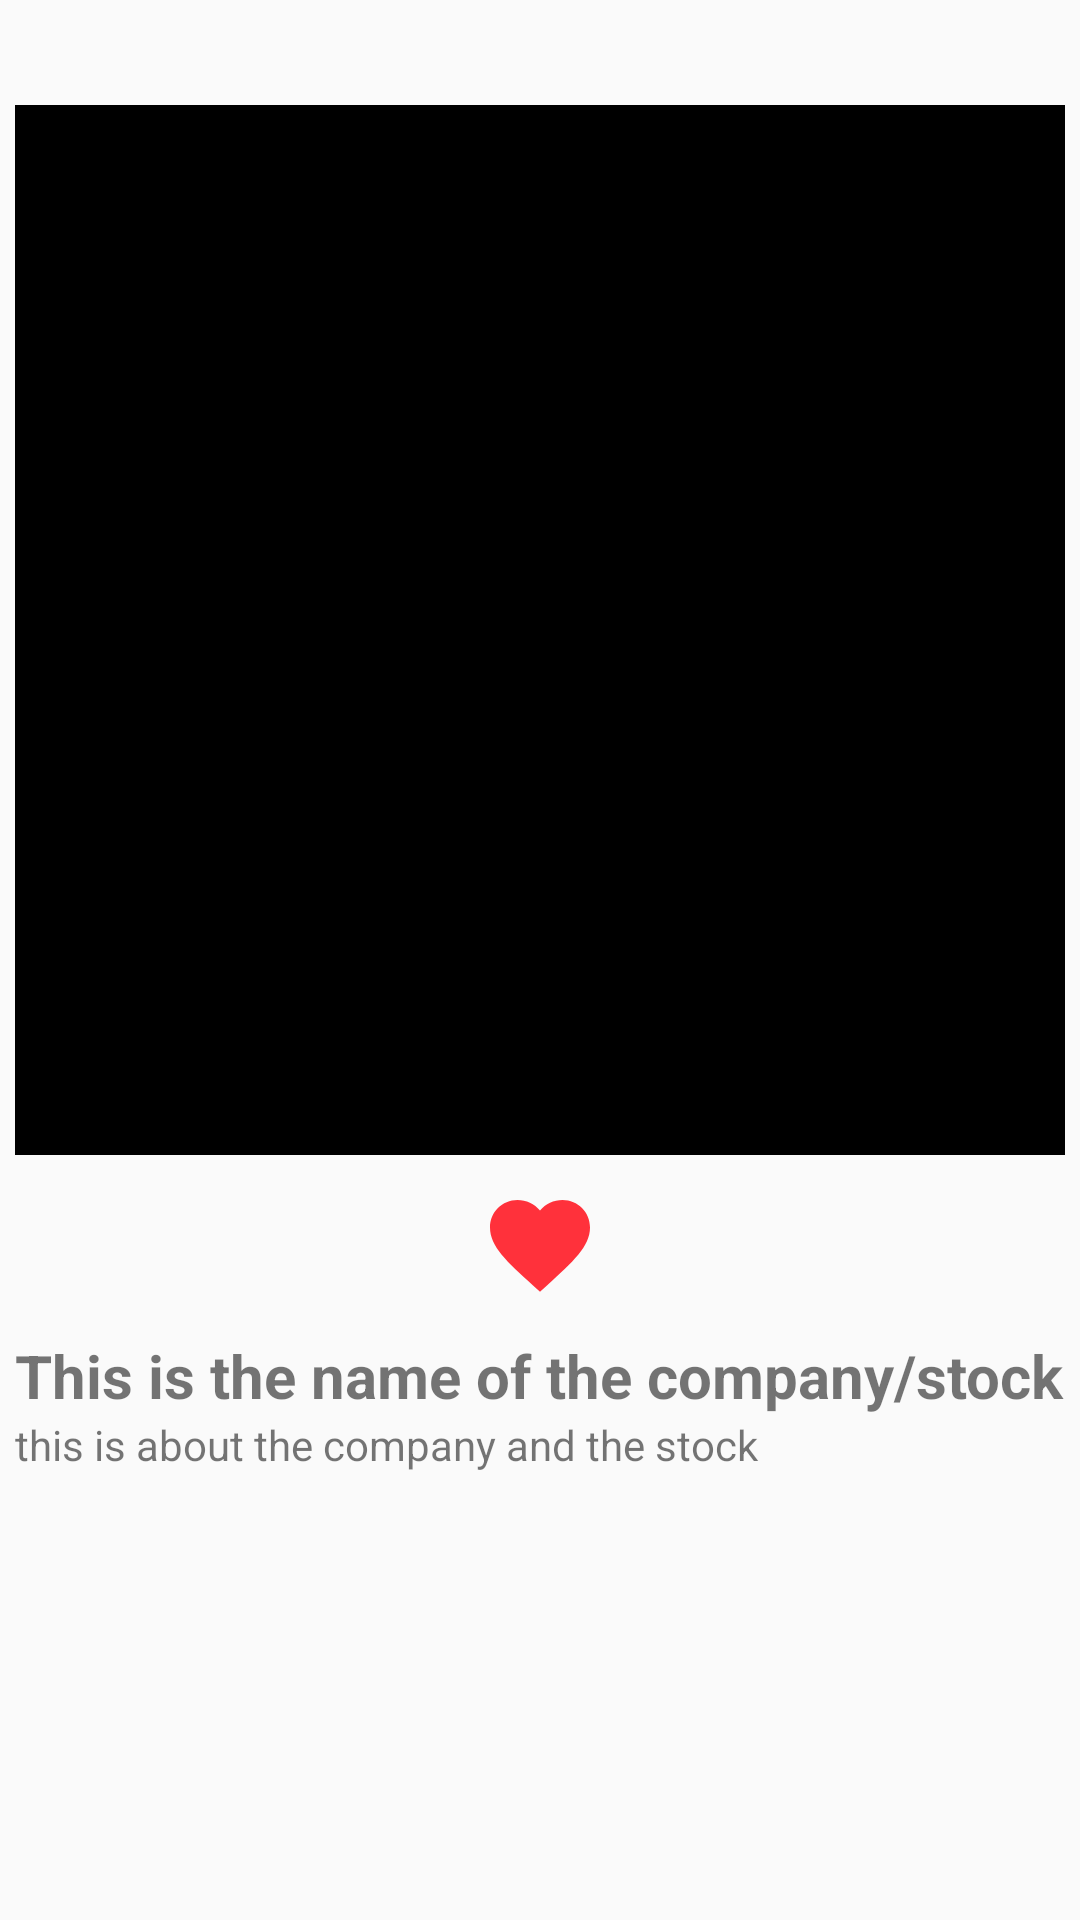

Icon click points for this 1080x1920 phone screenshot, format point (x, y):
favorite: point (540, 1246)
